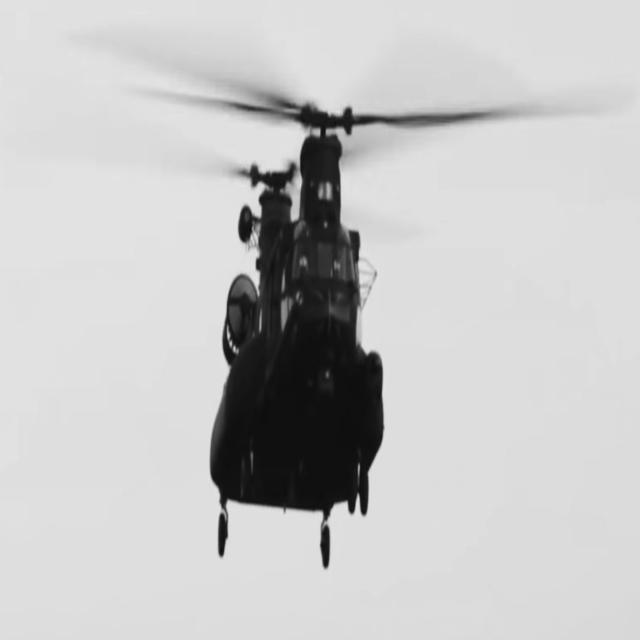Helicopter: (154, 90, 550, 568)
